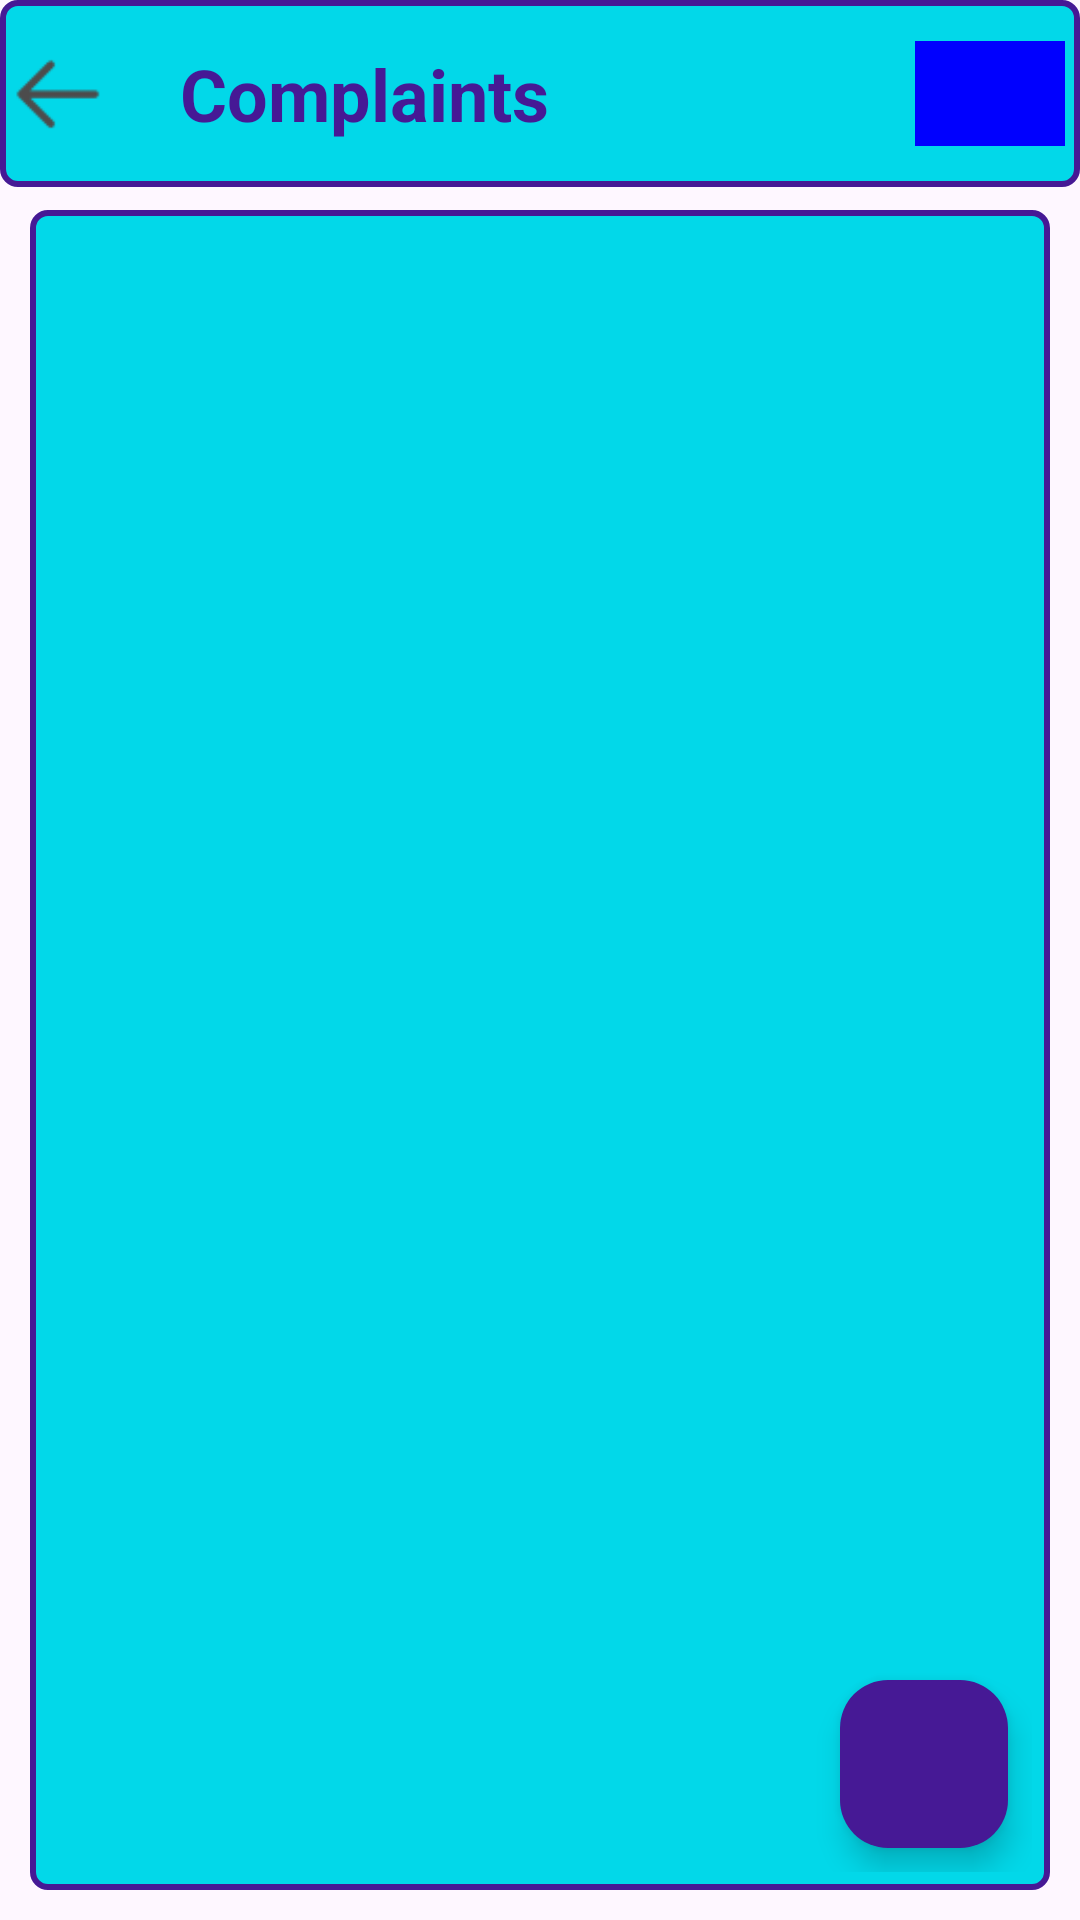

Point at icon controls on the screen. Image size 1080px x 1920px, points as (x=x, y=y).
back: (x=58, y=94)
